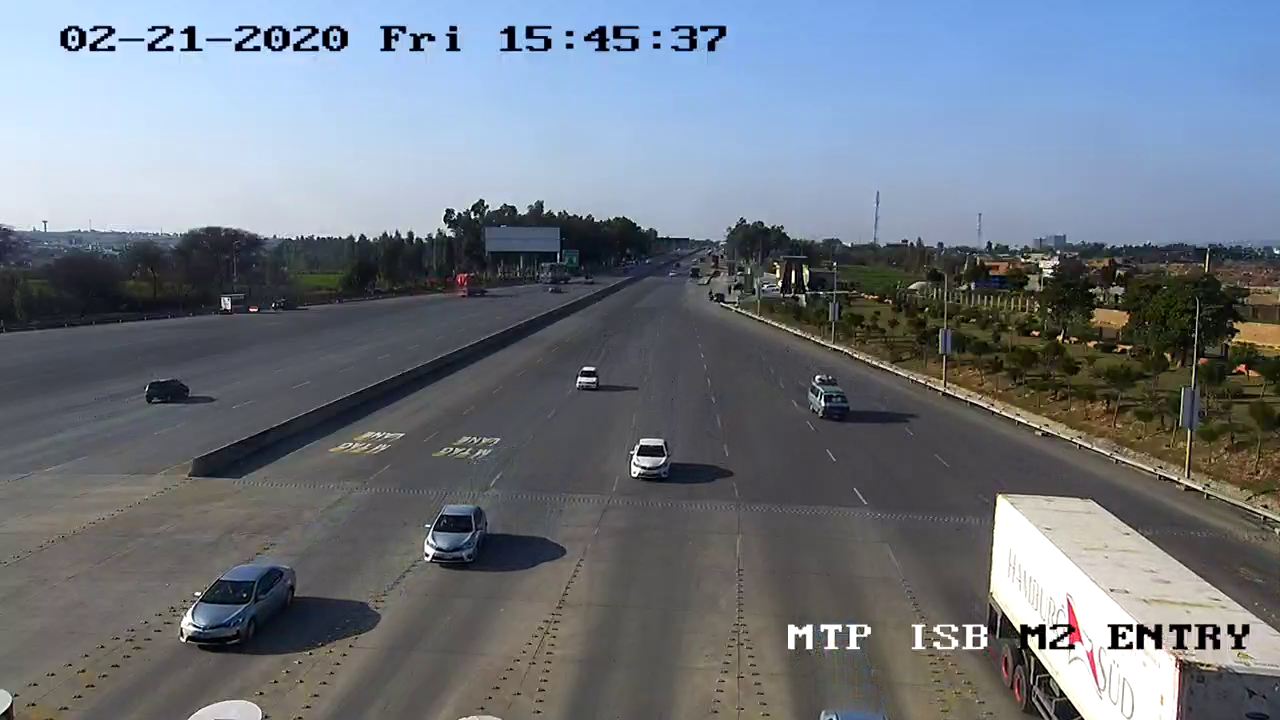f1: (174, 558, 302, 655), (417, 492, 494, 577), (623, 433, 674, 491)
